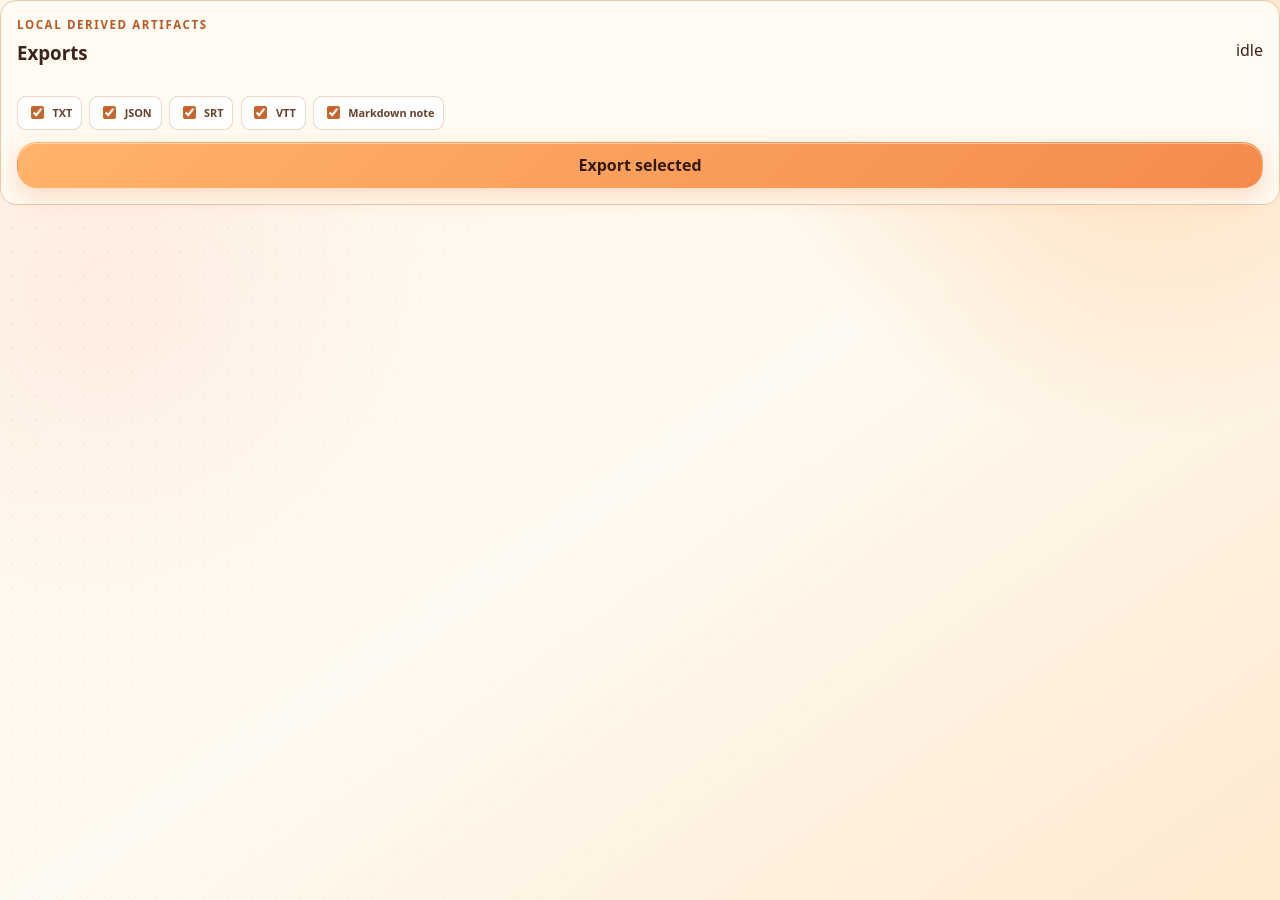
Scenario: ExportPanel › shows safe export errors
Click the button "Export selected": (640, 165) [17,142,1263,188]
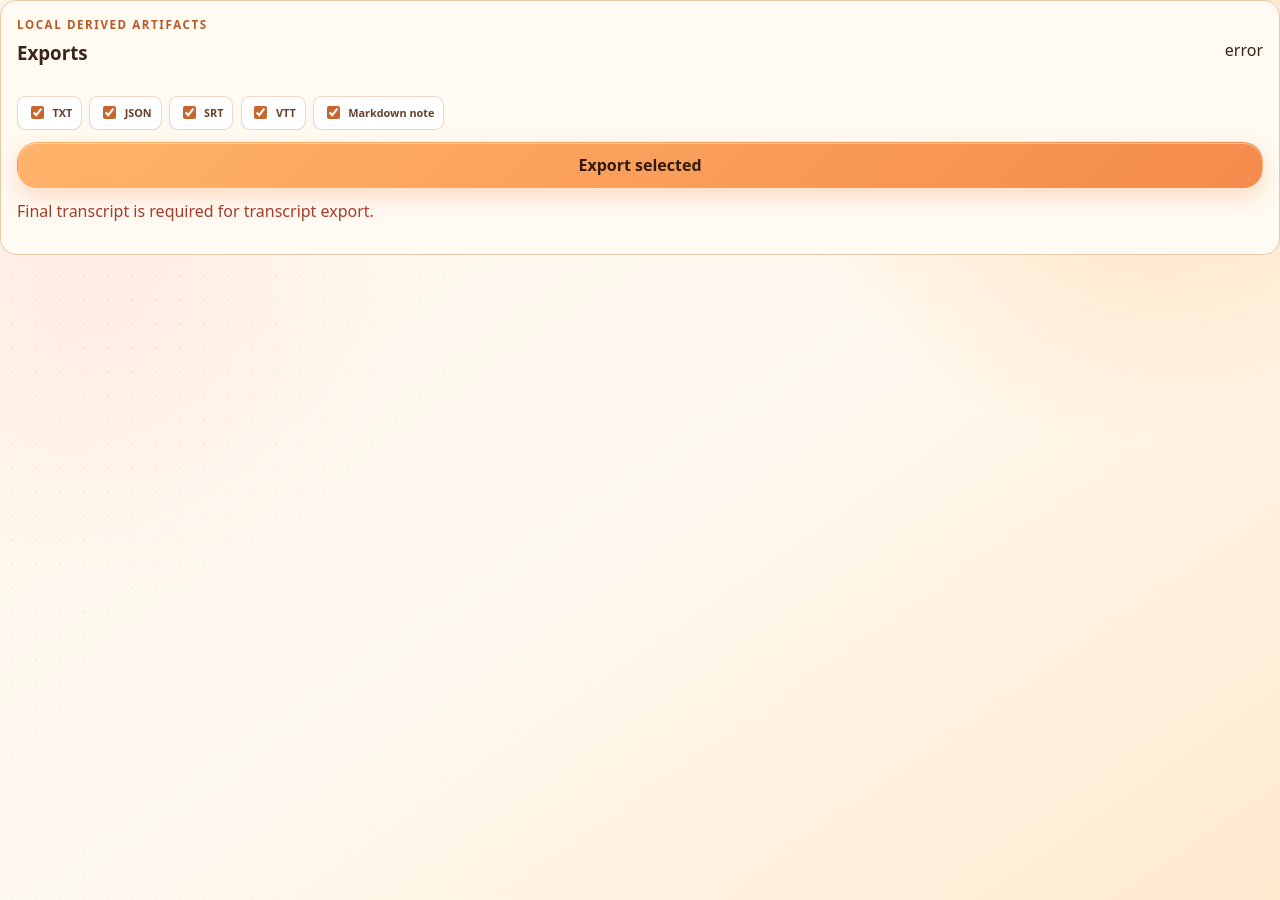
Result: the message shows "Final transcript is required" at [17,200,374,222]
